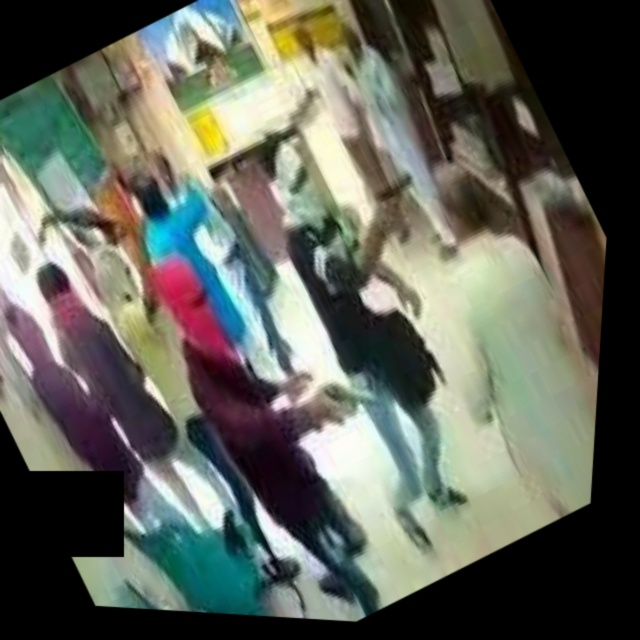gun: (307, 359, 393, 446), (355, 157, 436, 239)
